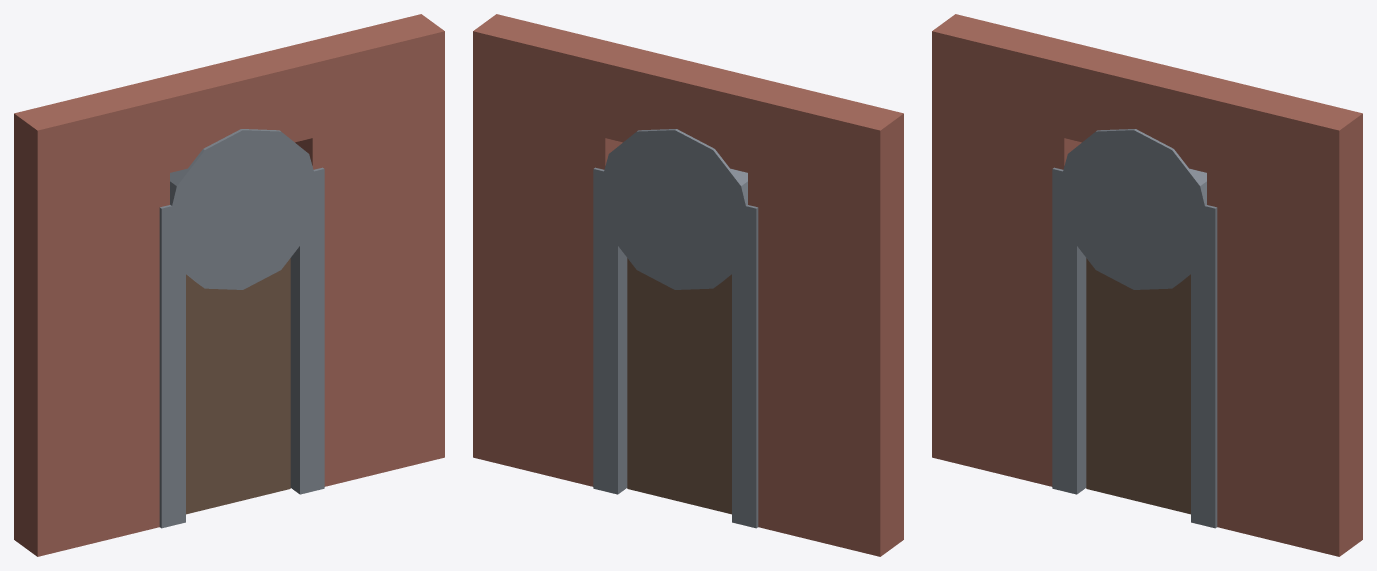
File: arkham_wall_brickdoorway.glb
3 views of the same model, side by side, from view 1: azimuth 30°, elevation 25°; view 2: azimuth 150°, elevation 25°; view 3: azimuth 330°, elevation 25° (orthographic).
Parts seen in each view (by area): view 1: Arkham_Wall_BrickDoorway; view 2: Arkham_Wall_BrickDoorway; view 3: Arkham_Wall_BrickDoorway.
Part boxes in pixels (x1,y1,x2,y2): Arkham_Wall_BrickDoorway: [14, 14, 444, 556]; Arkham_Wall_BrickDoorway: [473, 14, 903, 556]; Arkham_Wall_BrickDoorway: [932, 14, 1362, 556].
Bounding box in the file's own units: 4 × 4 × 0.46.
